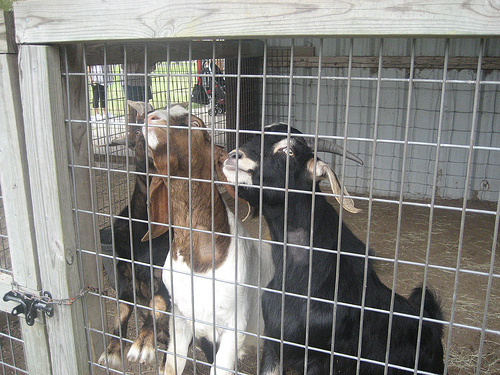goat: (223, 121, 446, 375), (140, 104, 273, 375), (97, 99, 174, 375)
